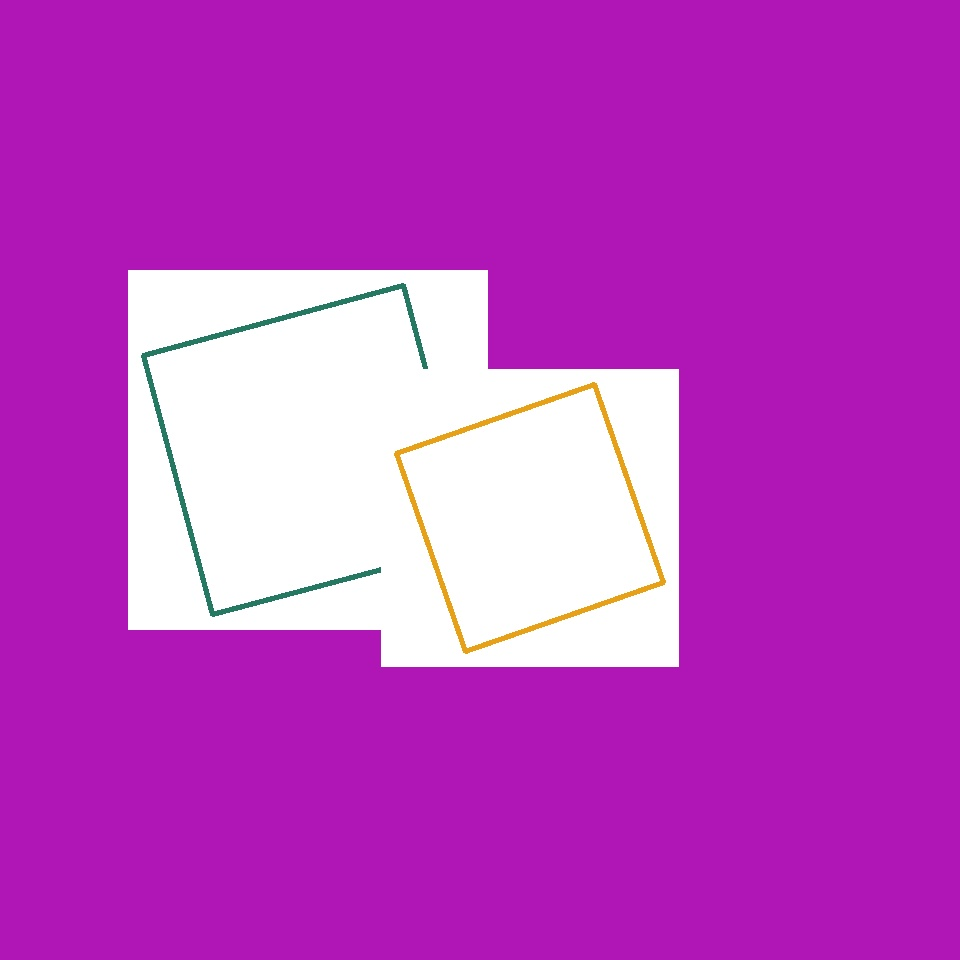square: (144, 286, 472, 614), (397, 384, 664, 652), (608, 446, 816, 656)
triangle: (126, 412, 410, 695)
